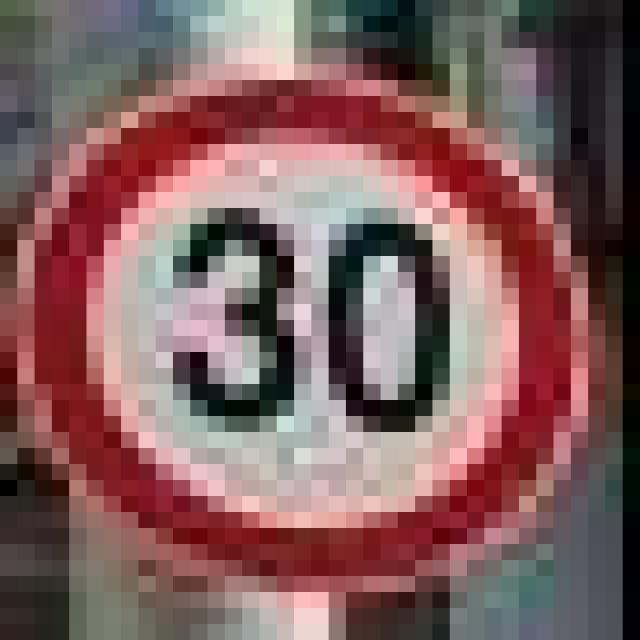Ograniczenie predkosci do 30: (0, 48, 571, 576)
